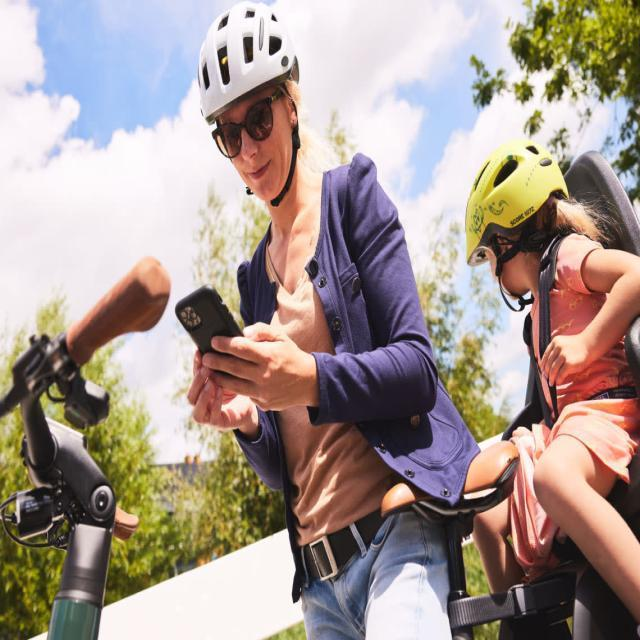use_mobile: (173, 282, 315, 434)
with_helmet: (195, 2, 304, 204), (463, 143, 570, 301)
